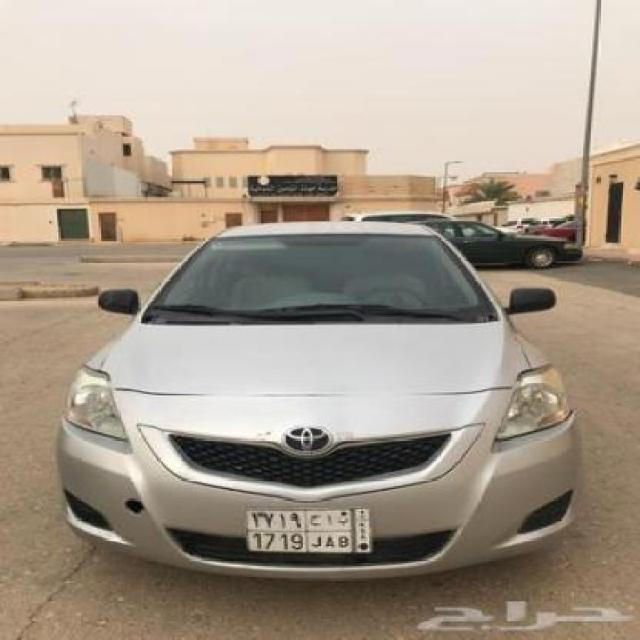license_plate: (241, 508, 377, 555)
